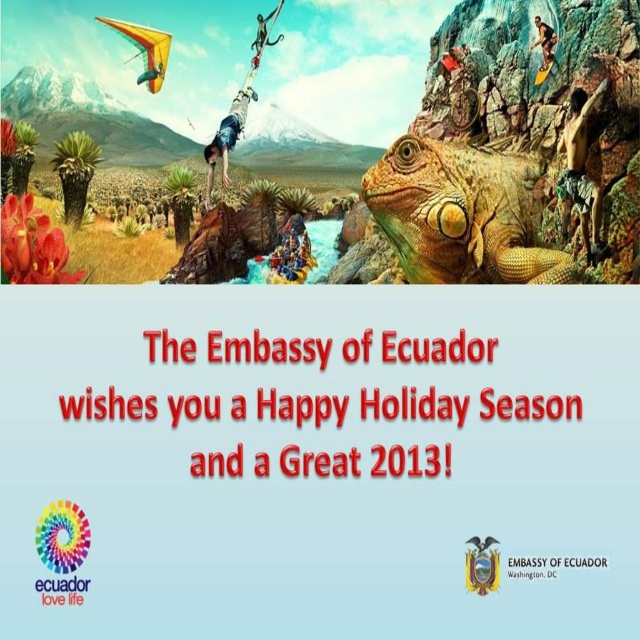Lizard: (275, 83, 540, 293)
